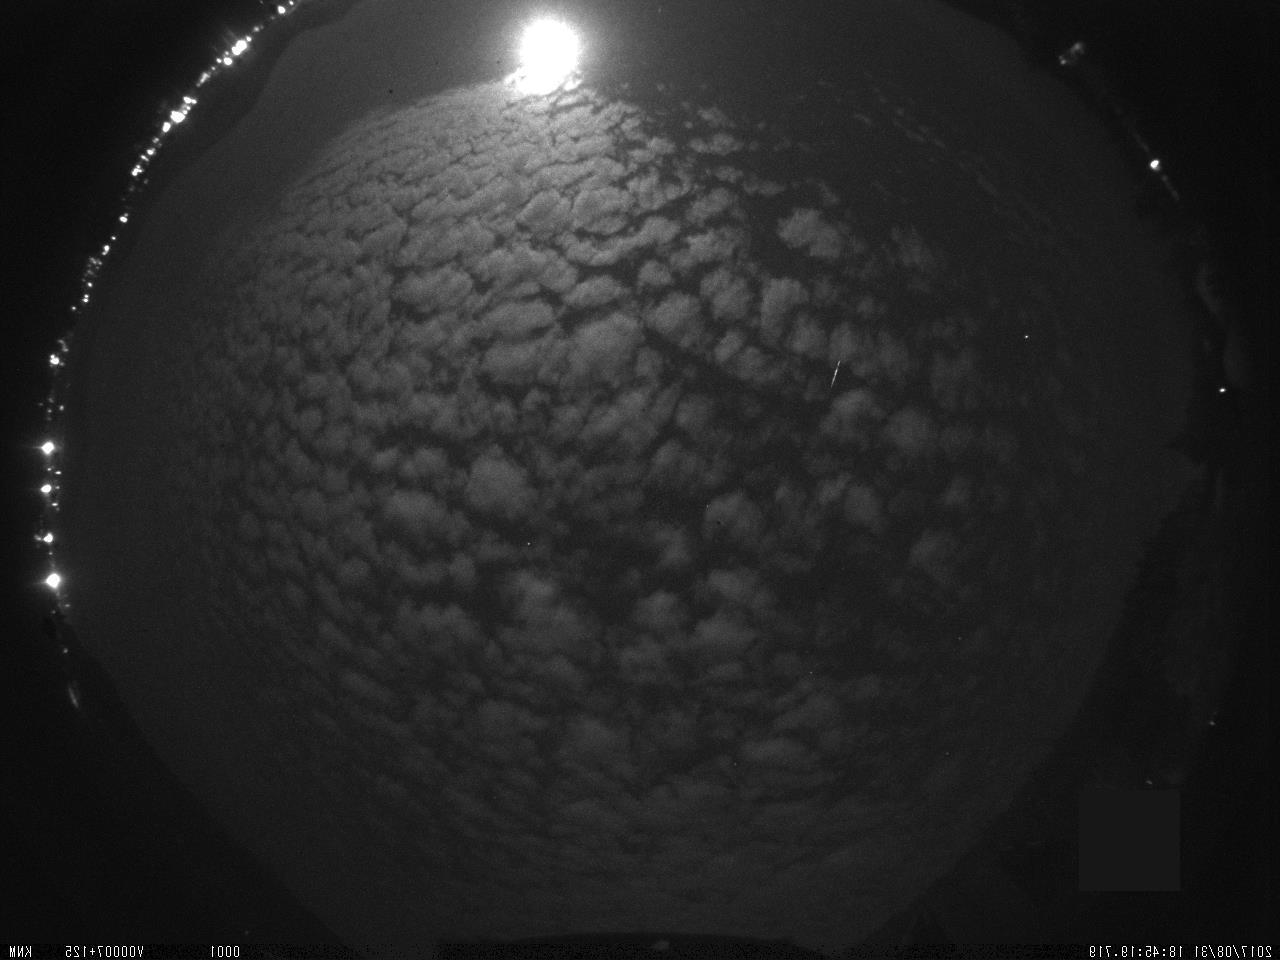meteor: (824, 355, 852, 390)
